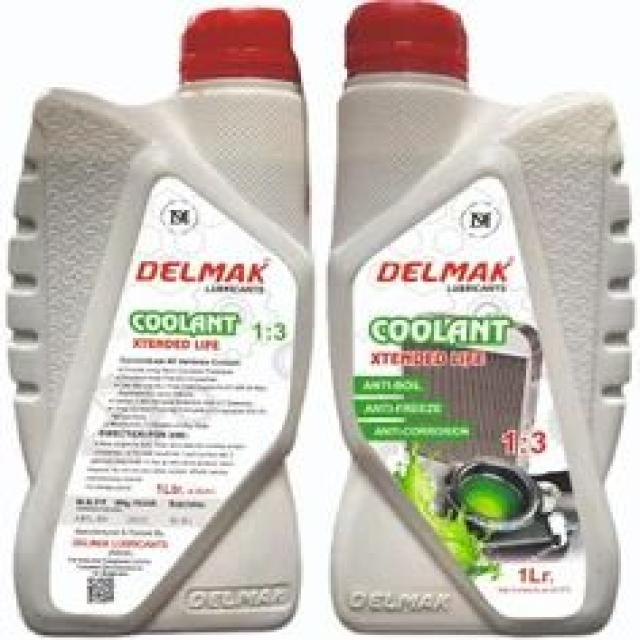coolant: (2, 0, 322, 635), (335, 0, 640, 640)
